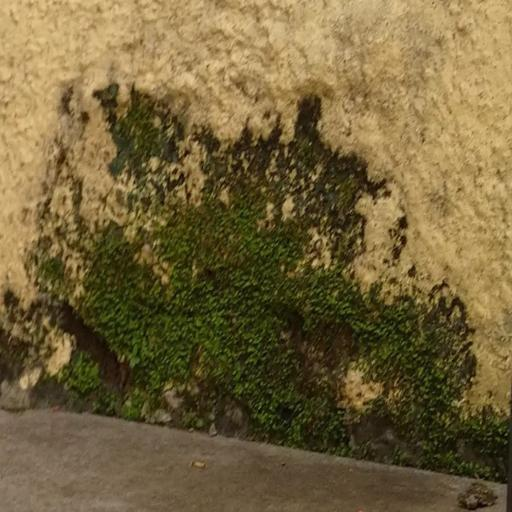algae: (6, 40, 512, 512)
